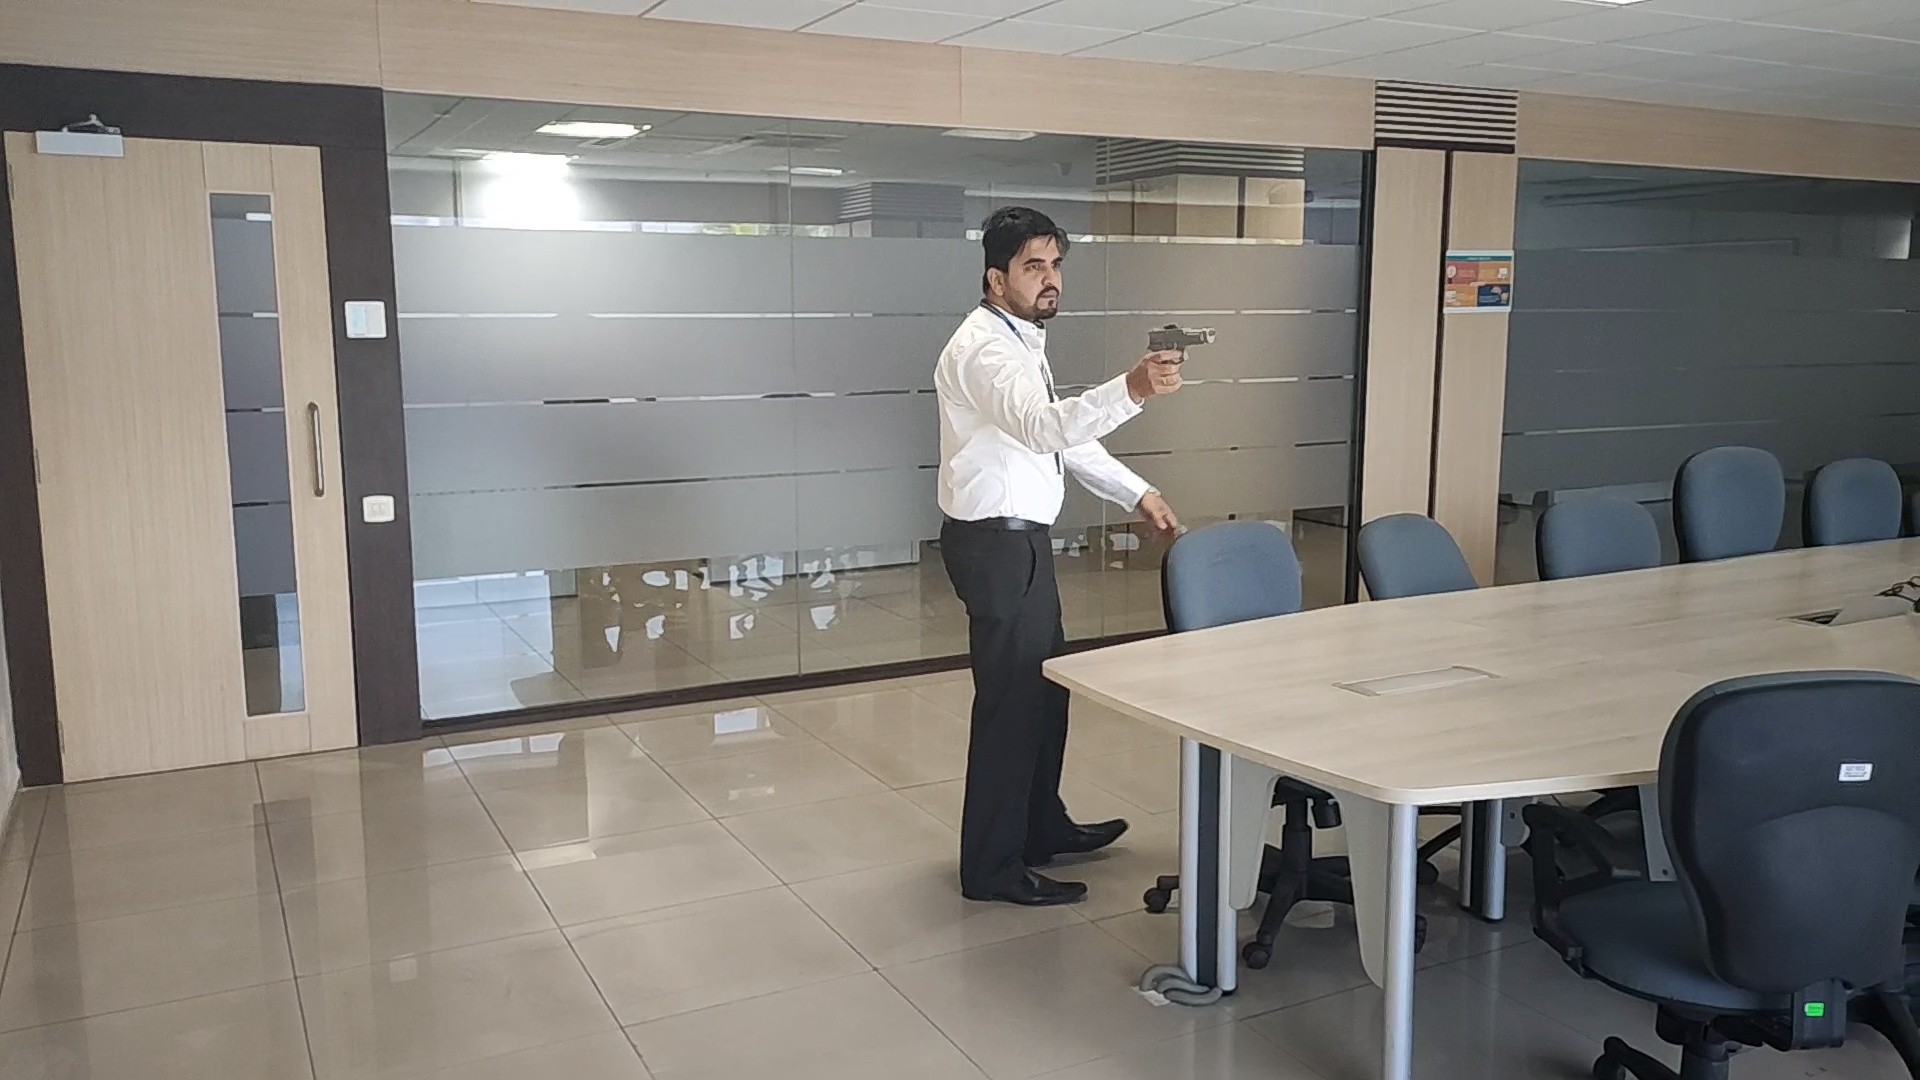gun: (1149, 324, 1218, 361)
